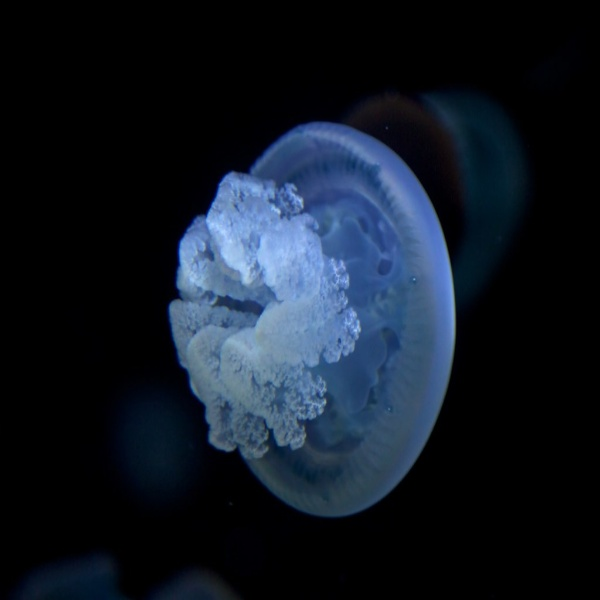Jellyfish: (165, 117, 456, 515)
